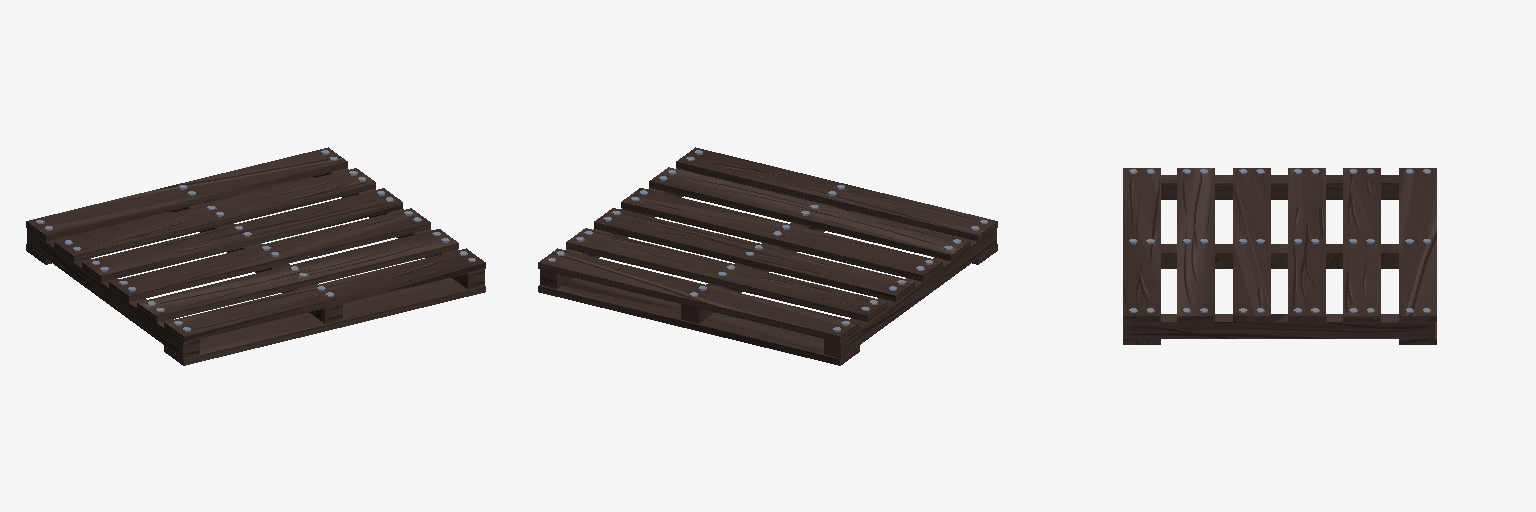
3 views of the same model, side by side, from view 1: azimuth 30°, elevation 25°; view 2: azimuth 150°, elevation 25°; view 3: azimuth 270°, elevation 25° (orthographic).
Parts seen in each view (by area): view 1: palette_Cube.022_Material, Cylinder.011_Cylinder.051_None; view 2: palette_Cube.022_Material, Cylinder.011_Cylinder.051_None; view 3: palette_Cube.022_Material, Cylinder.011_Cylinder.051_None.
Part boxes in pixels (x1,y1,x2,y2): palette_Cube.022_Material: (26,147,485,365); Cylinder.011_Cylinder.051_None: (36,150,475,331); palette_Cube.022_Material: (538,147,997,365); Cylinder.011_Cylinder.051_None: (548,150,987,331); palette_Cube.022_Material: (1123,168,1436,344); Cylinder.011_Cylinder.051_None: (1129,169,1430,312).
Bounding box in the file's own units: 4.01 × 0.3962 × 3.62.
2 materials, 2 textured.